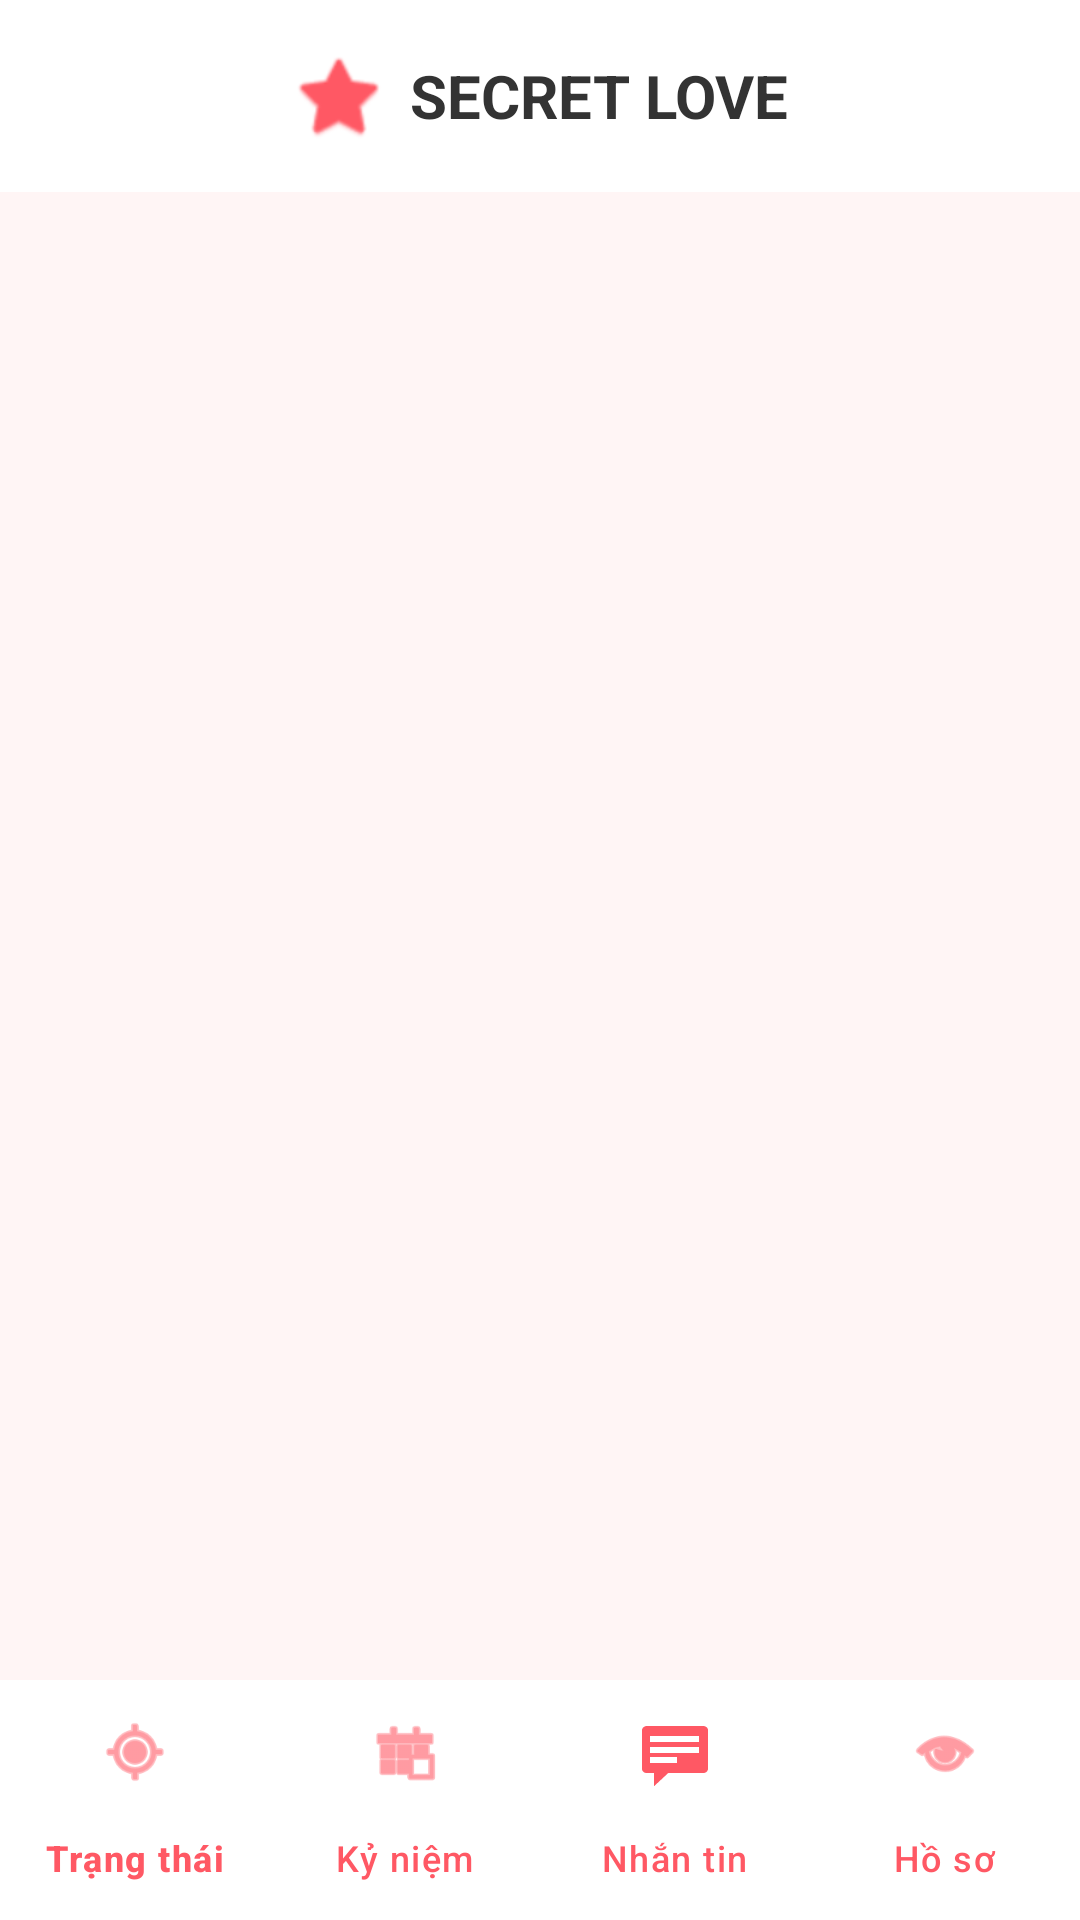

Where to tap for icons on this 1080w x 1920h app screen, as [x,y]:
star on: [339,96]
